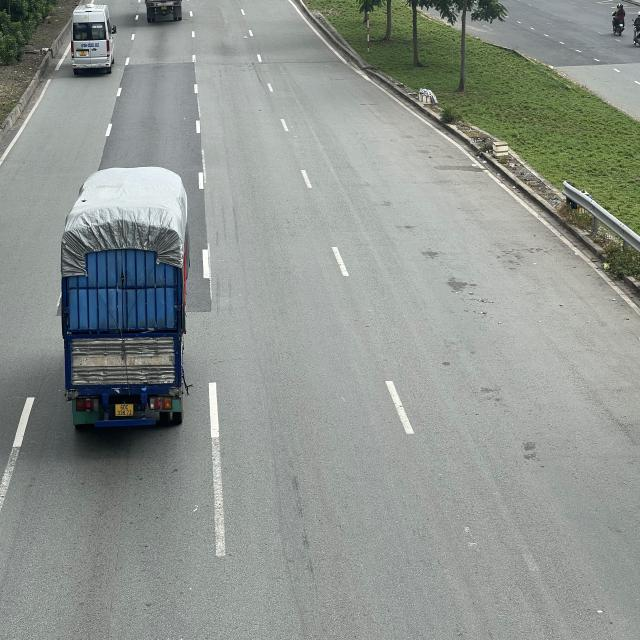truck: (61, 166, 187, 424)
van: (71, 3, 119, 72)
